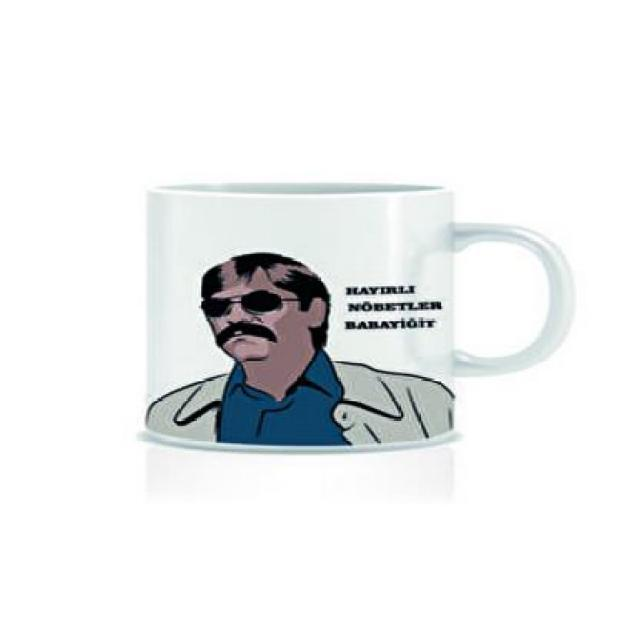taza: (128, 152, 580, 468)
